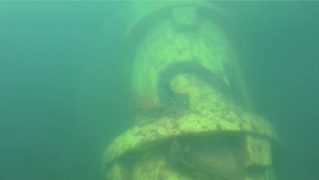2: (156, 61, 246, 110)
pipe: (102, 1, 277, 180)
